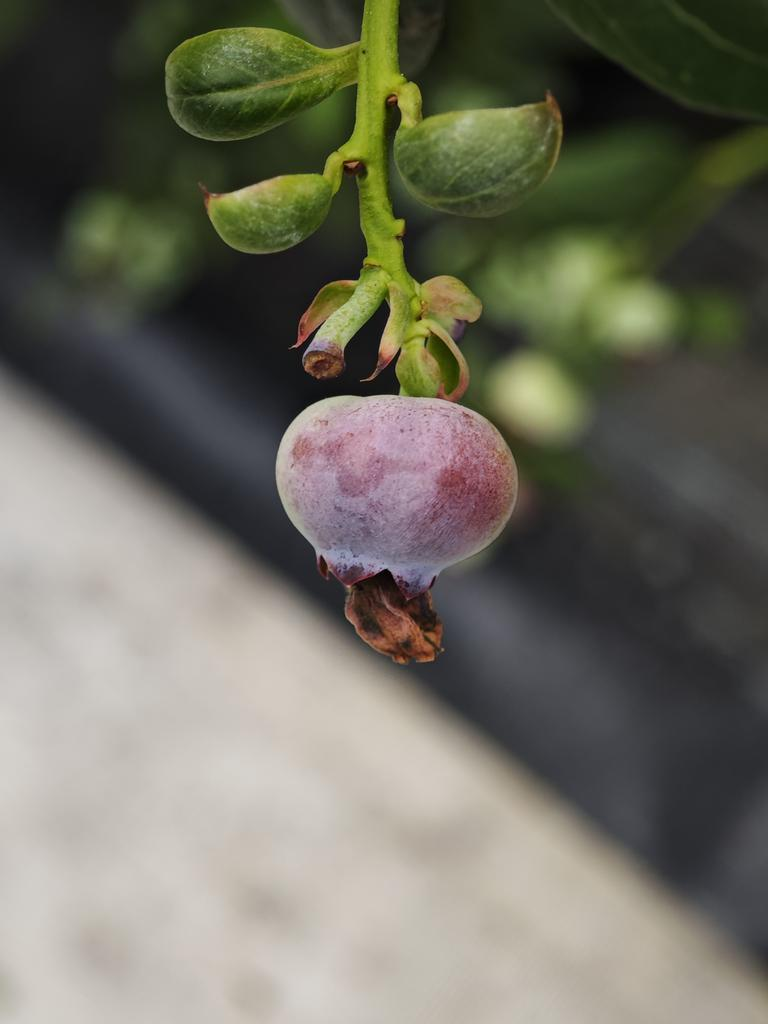Semi-RipeBlueBerry: (269, 394, 527, 576)
